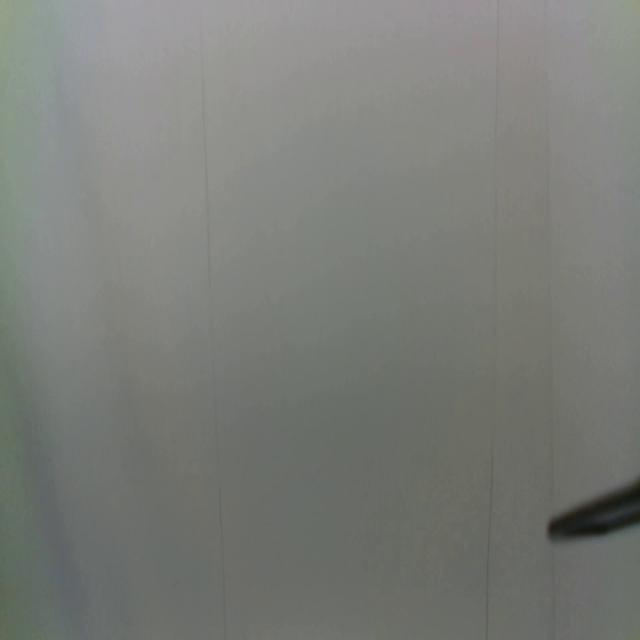crease: (198, 0, 228, 635), (483, 1, 502, 640), (541, 0, 558, 640)
